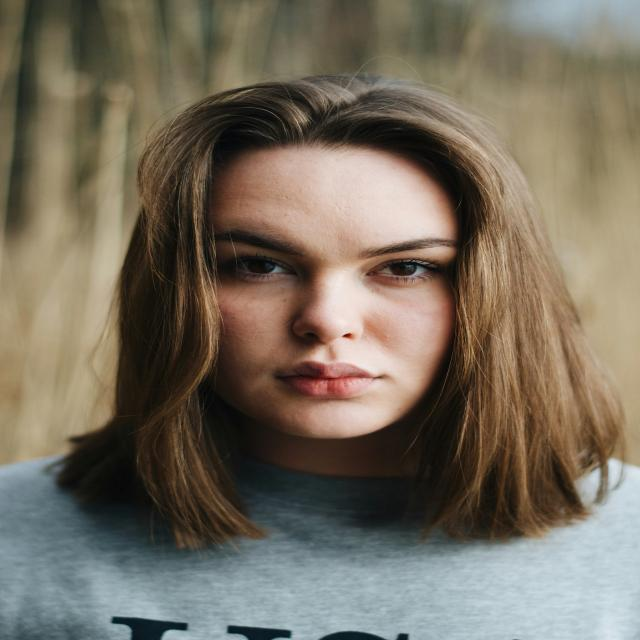human: (2, 72, 640, 640)
